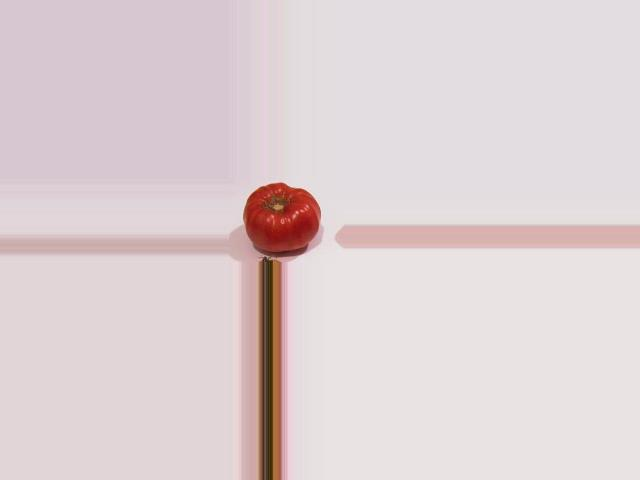tomato: (244, 183, 320, 251)
